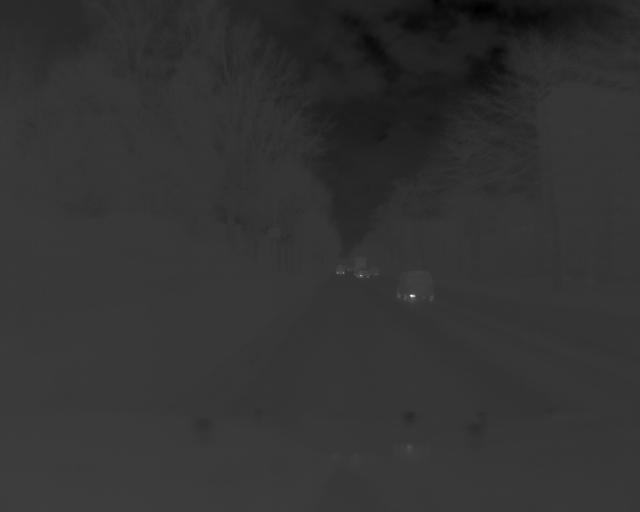car: (393, 267, 438, 306)
